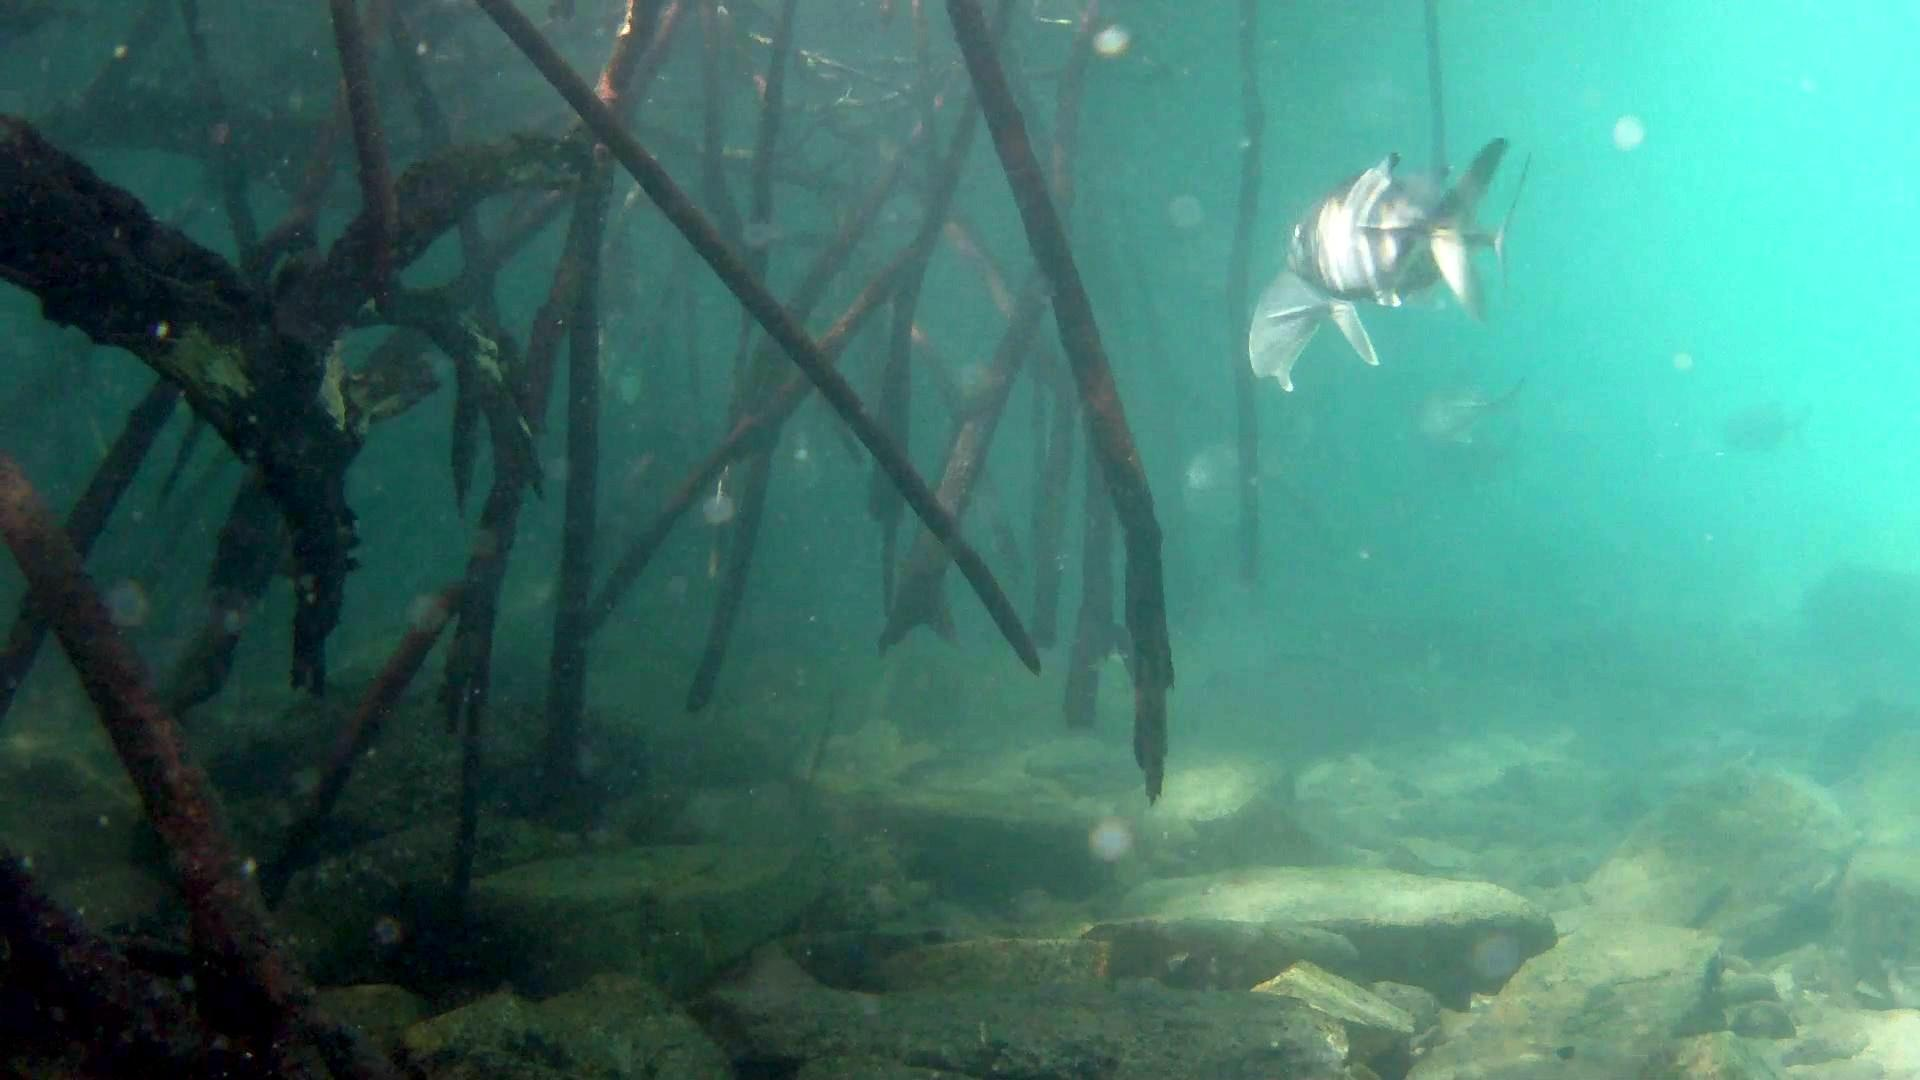caranx: (1280, 143, 1488, 321)
